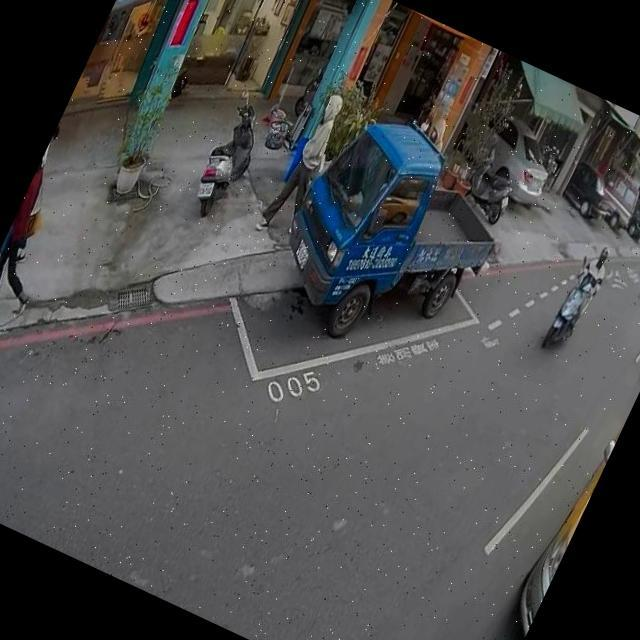person: (250, 78, 362, 248), (0, 134, 90, 317), (0, 113, 87, 286), (552, 240, 618, 338), (421, 112, 456, 157), (414, 108, 438, 140)
